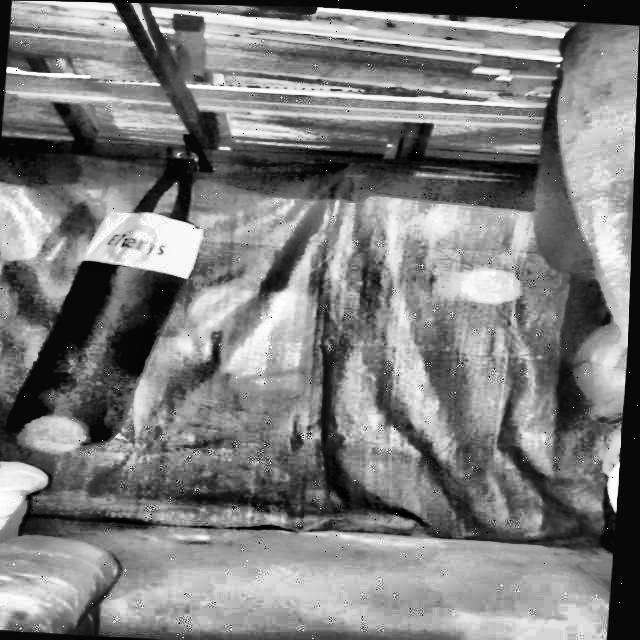boxing-bag: (14, 121, 207, 458)
